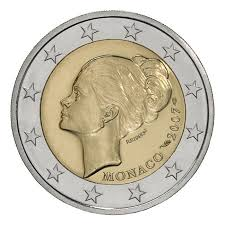eur002: (10, 10, 216, 217)
